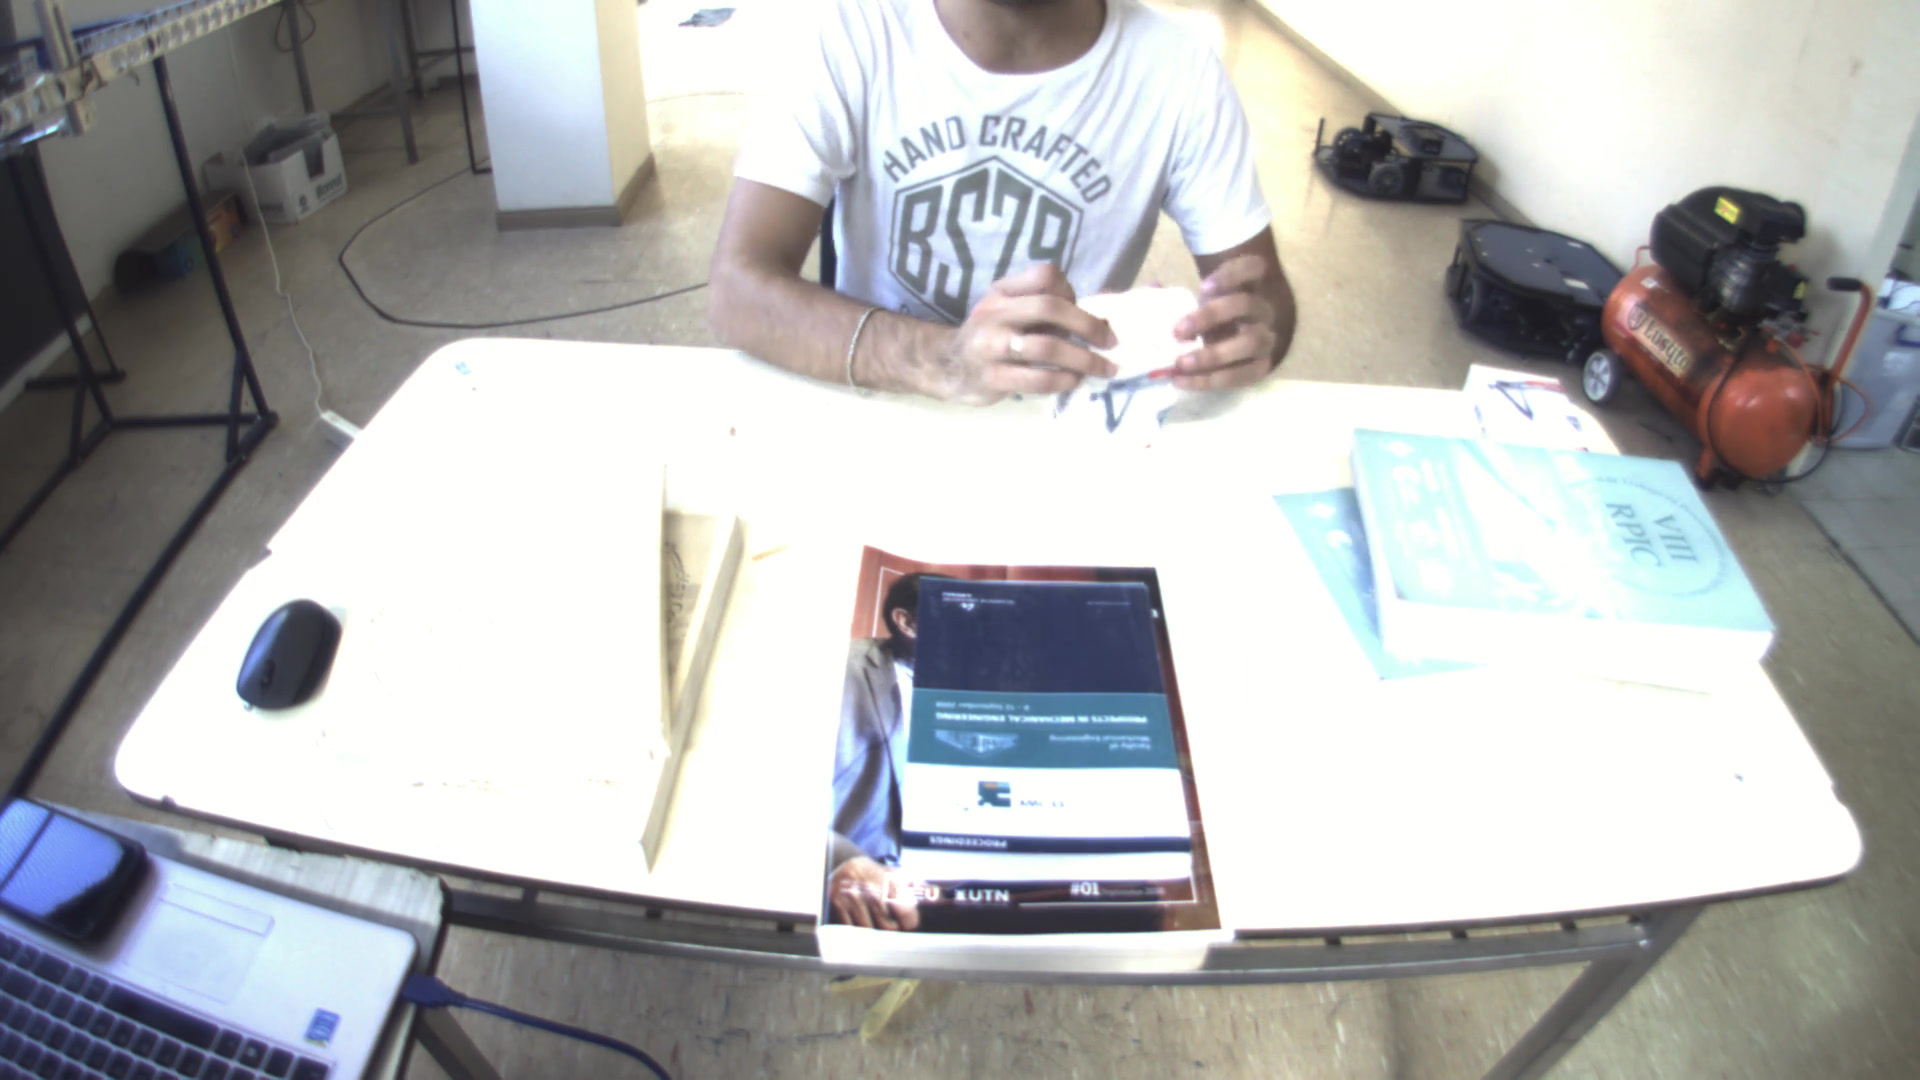hand: (944, 249, 1126, 405), (1166, 229, 1303, 400)
